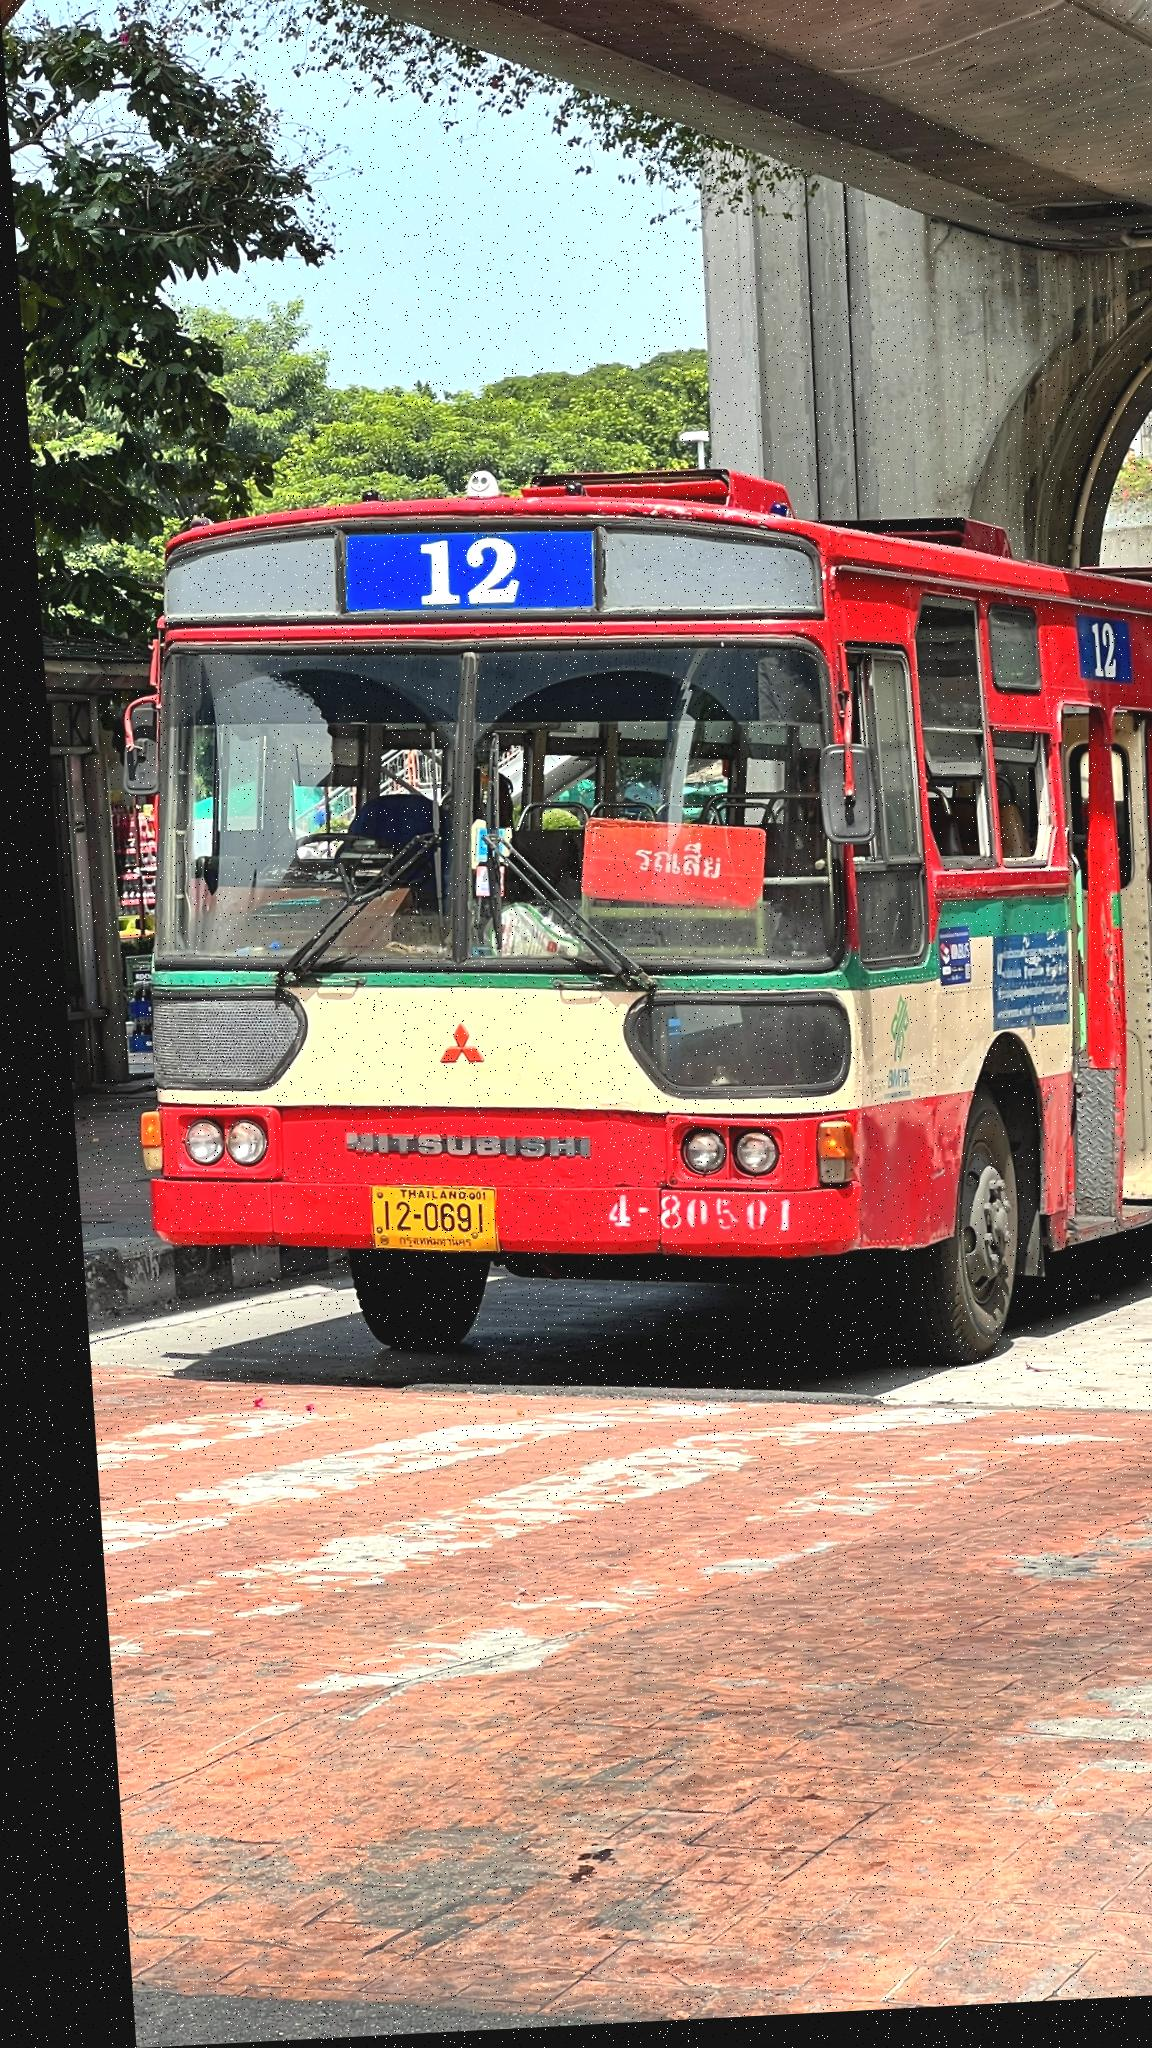BMTA-bus: (118, 482, 1152, 1376)
Bus Line Number: (370, 519, 564, 623)
Bus Side Number: (574, 1187, 786, 1253)
Destination Sign: (580, 830, 750, 926)
